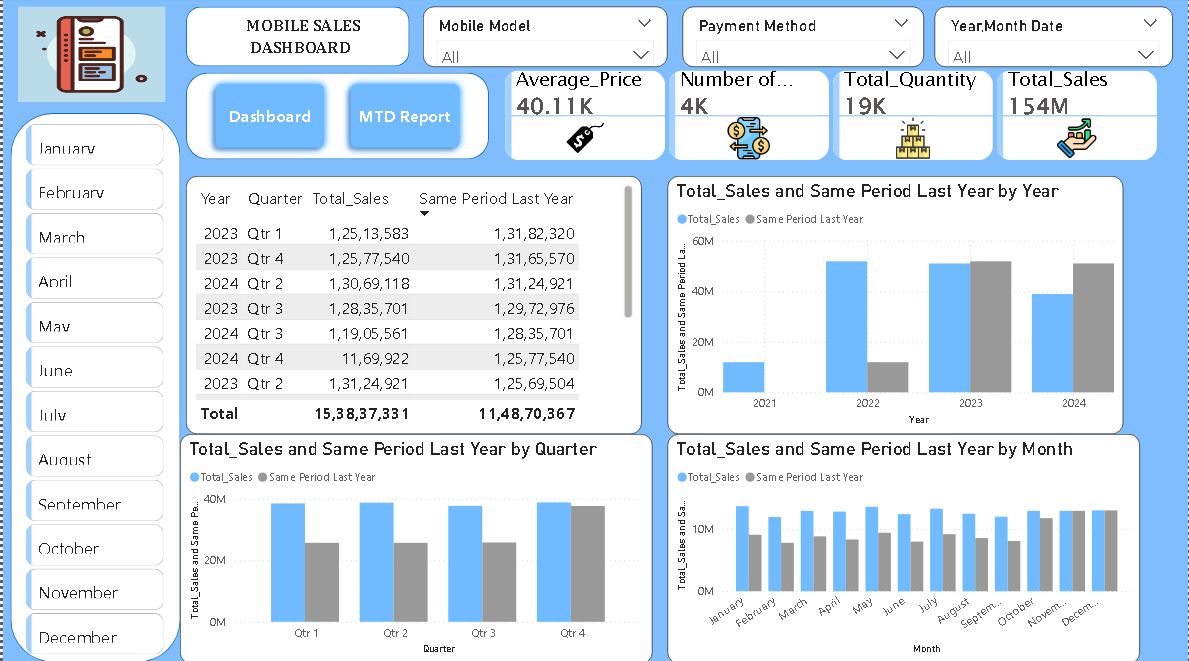

The dashboard page shown, as its layout file describes it:
{"tool":"powerbi","page":{"name":"Same Period Last Year","canvas":[1280,720],"ordinal":2},"visuals":[{"type":"image","box":[16.4,11.5,159.1,103.3],"z":0},{"type":"cardVisual","fields":{"Data":["Sheet.Average_Price","Sheet.Number of Transactions","Sheet.Total_Quantity","Sheet.Total_Sales"]},"box":[524.6,63.1,738.4,131.2],"z":1000},{"type":"shape","box":[197.5,11.3,241.3,64.8],"z":2000},{"type":"textbox","box":[257.5,13,147.3,59.9],"z":3000},{"type":"shape","box":[7.3,126.7,183.6,592.9],"z":4000},{"type":"advancedSlicerVisual","fields":{"Values":["Query1.Date.Variation.Date Hierarchy.Month"]},"box":[20.2,132.2,159.7,587.4],"z":5000},{"type":"slicer","fields":{"Values":["Sheet.Mobile Model"]},"box":[452.7,11.5,264.1,65.6],"z":6000},{"type":"slicer","fields":{"Values":["Query1.Date.Variation.Date Hierarchy.Year"]},"box":[1005.5,11.5,257.5,65.6],"z":7000},{"type":"slicer","fields":{"Values":["Sheet.Payment Method"]},"box":[733.2,11.5,260.8,65.6],"z":8000},{"type":"tableEx","fields":{"Values":["Query1.Date.Variation.Date Hierarchy.Year","Query1.Date.Variation.Date Hierarchy.Quarter","Sheet.Total_Sales","Sheet.Same Period Last Year"]},"box":[197.5,194.3,492.2,278.5],"z":9000},{"type":"clusteredColumnChart","fields":{"Y":["Sheet.Total_Sales","Sheet.Same Period Last Year"],"Category":["Query1.Date.Variation.Date Hierarchy.Year","Query1.Date.Variation.Date Hierarchy.Quarter","Query1.Date.Variation.Date Hierarchy.Month","Query1.Date.Variation.Date Hierarchy.Day"]},"box":[717.3,194.3,492.2,278.5],"z":10000},{"type":"clusteredColumnChart","fields":{"Category":["Query1.Date.Variation.Date Hierarchy.Year","Query1.Date.Variation.Date Hierarchy.Quarter","Query1.Date.Variation.Date Hierarchy.Month","Query1.Date.Variation.Date Hierarchy.Day"],"Y":["Sheet.Total_Sales","Sheet.Same Period Last Year"]},"box":[191.1,472.8,510.1,247.7],"z":11000},{"type":"clusteredColumnChart","fields":{"Category":["Query1.Date.Variation.Date Hierarchy.Year","Query1.Date.Variation.Date Hierarchy.Quarter","Query1.Date.Variation.Date Hierarchy.Month","Query1.Date.Variation.Date Hierarchy.Day"],"Y":["Sheet.Total_Sales","Sheet.Same Period Last Year"]},"box":[717.3,472.8,510.1,247.7],"z":12000},{"type":"shape","box":[197.5,82.6,327.1,93.9],"z":13000},{"type":"pageNavigator","box":[220.2,85.8,283.4,87.4],"z":14000}]}

Visuals, with their boxes in screenshot pixels (x1, y1, x2, y2), scaled from the page's 1280x720 canvas onto the 1189x661 screenshot:
image: l=15, t=11, r=163, b=105
cardVisual - Sheet.Average_Price x Sheet.Number of Transactions: l=487, t=58, r=1173, b=178
shape: l=183, t=10, r=408, b=70
textbox: l=239, t=12, r=376, b=67
shape: l=7, t=116, r=177, b=660
advancedSlicerVisual - Query1.Date.Variation.Date Hierarchy.Month: l=19, t=121, r=167, b=660
slicer - Sheet.Mobile Model: l=421, t=11, r=666, b=71
slicer - Query1.Date.Variation.Date Hierarchy.Year: l=934, t=11, r=1173, b=71
slicer - Sheet.Payment Method: l=681, t=11, r=923, b=71
tableEx - Query1.Date.Variation.Date Hierarchy.Year x Query1.Date.Variation.Date Hierarchy.Quarter: l=183, t=178, r=641, b=434
clusteredColumnChart - Sheet.Total_Sales x Sheet.Same Period Last Year: l=666, t=178, r=1124, b=434
clusteredColumnChart - Query1.Date.Variation.Date Hierarchy.Year x Query1.Date.Variation.Date Hierarchy.Quarter: l=178, t=434, r=651, b=660
clusteredColumnChart - Query1.Date.Variation.Date Hierarchy.Year x Query1.Date.Variation.Date Hierarchy.Quarter: l=666, t=434, r=1140, b=660
shape: l=183, t=76, r=487, b=162
pageNavigator: l=205, t=79, r=468, b=159
